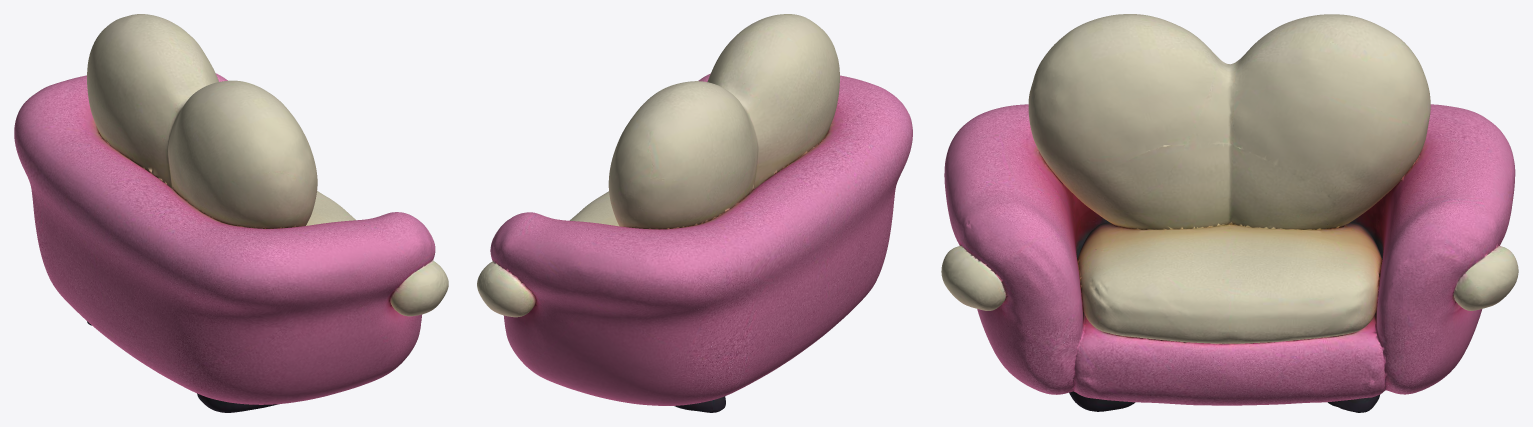
The model's file is env_nest_loveseat_01.glb.
3 renders of one model, left to right at view 1: azimuth 30°, elevation 25°; view 2: azimuth 150°, elevation 25°; view 3: azimuth 270°, elevation 25°, orthographic. The views are drawn at different scales.
Parts seen in each view (by area): view 1: tripo_node_1cb4b5be-72ce-4e15-9943-2687b215be72; view 2: tripo_node_1cb4b5be-72ce-4e15-9943-2687b215be72; view 3: tripo_node_1cb4b5be-72ce-4e15-9943-2687b215be72.
Boxes of the visible parts, bbox=[...] form: tripo_node_1cb4b5be-72ce-4e15-9943-2687b215be72: bbox=[14, 14, 448, 412]; tripo_node_1cb4b5be-72ce-4e15-9943-2687b215be72: bbox=[477, 14, 912, 412]; tripo_node_1cb4b5be-72ce-4e15-9943-2687b215be72: bbox=[941, 14, 1518, 412].
Bounding box in the file's own units: 0.8743 × 1 × 1.54.
1 material, 1 textured.
